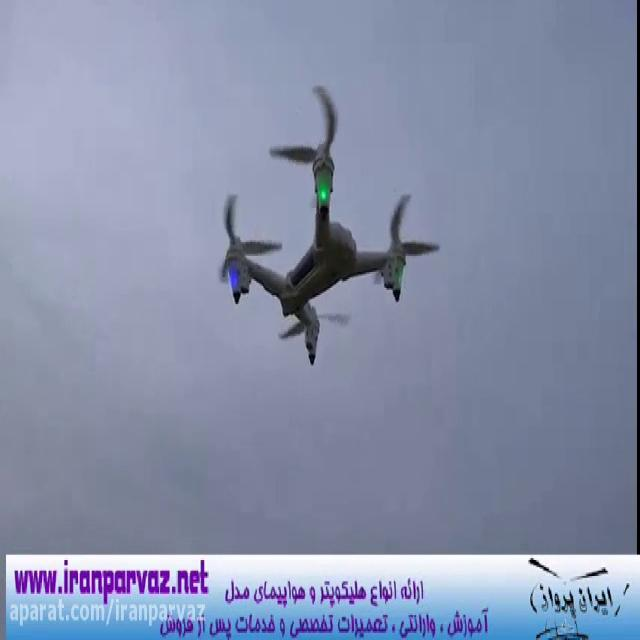drone: (215, 78, 442, 368)
